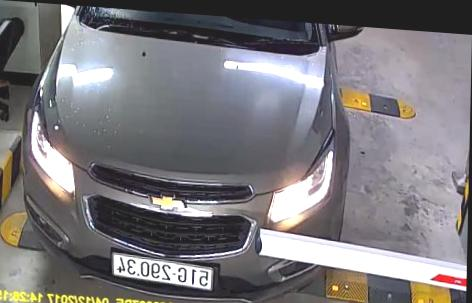License_Plate: (106, 250, 220, 292)
